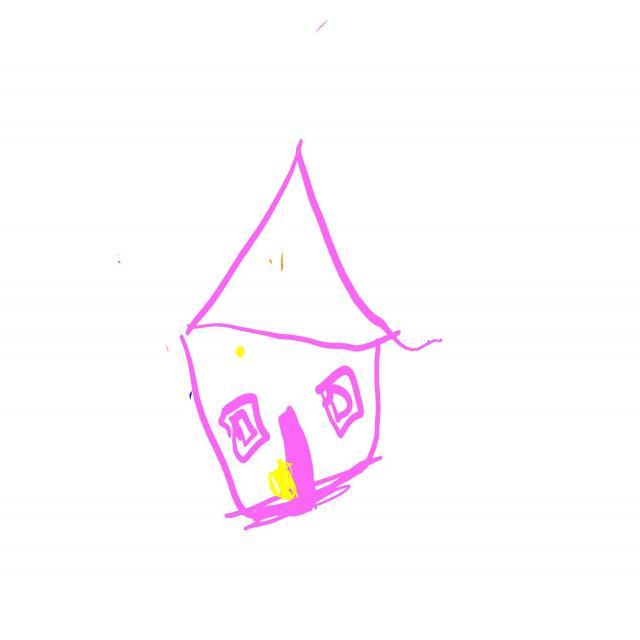door: (276, 401, 319, 507)
house: (181, 140, 421, 530)
roof: (175, 147, 399, 357)
wall: (184, 328, 384, 519)
window: (218, 394, 270, 464), (316, 367, 364, 439)
